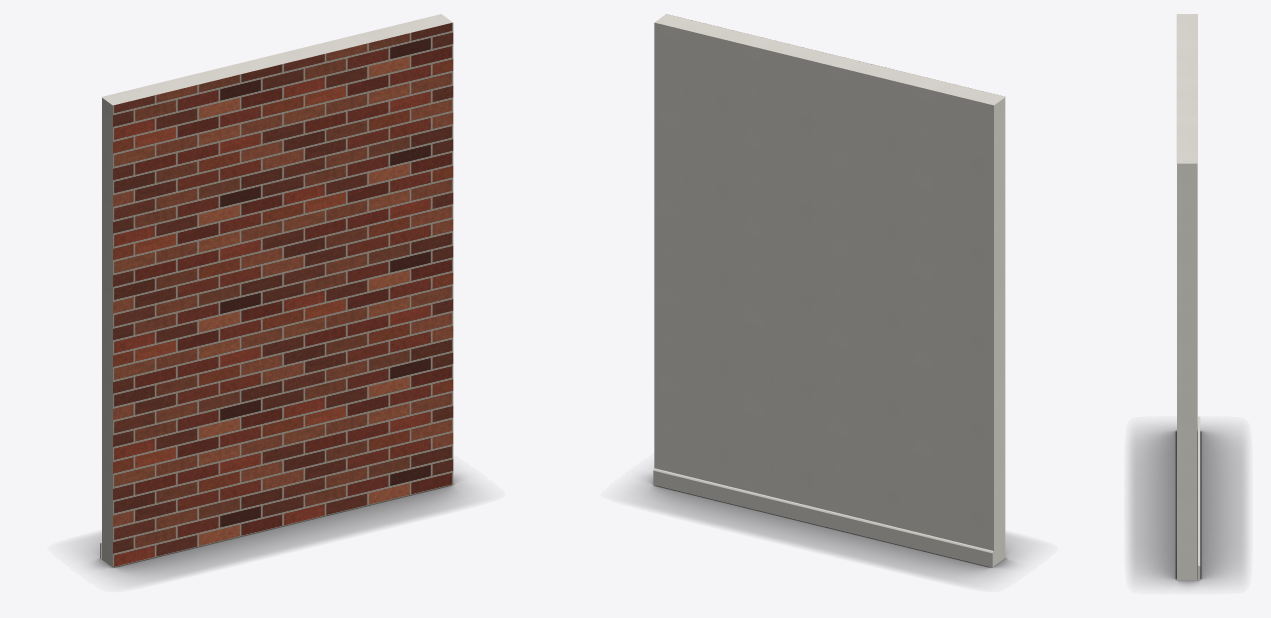
File: wall_brick.glb
3 views of the same model, side by side, from view 1: azimuth 30°, elevation 25°; view 2: azimuth 150°, elevation 25°; view 3: azimuth 270°, elevation 25° (orthographic). The views are drawn at different scales.
Visible parts, largest first — view 1: wall_brick_LOD0, wall_brick_Shadow; view 2: wall_brick_LOD0, wall_brick_Shadow; view 3: wall_brick_Shadow, wall_brick_LOD0.
Part boxes in pixels (x1,y1,x2,y2): wall_brick_LOD0: [100, 14, 453, 567]; wall_brick_Shadow: [81, 473, 472, 582]; wall_brick_LOD0: [653, 14, 1005, 567]; wall_brick_Shadow: [634, 473, 1025, 581]; wall_brick_Shadow: [1130, 425, 1245, 586]; wall_brick_LOD0: [1176, 14, 1200, 580].
Size of what is drawn, in the model's own units: 2.64 by 2.6 by 0.774.
Materials: 4 (3 with a texture image).
